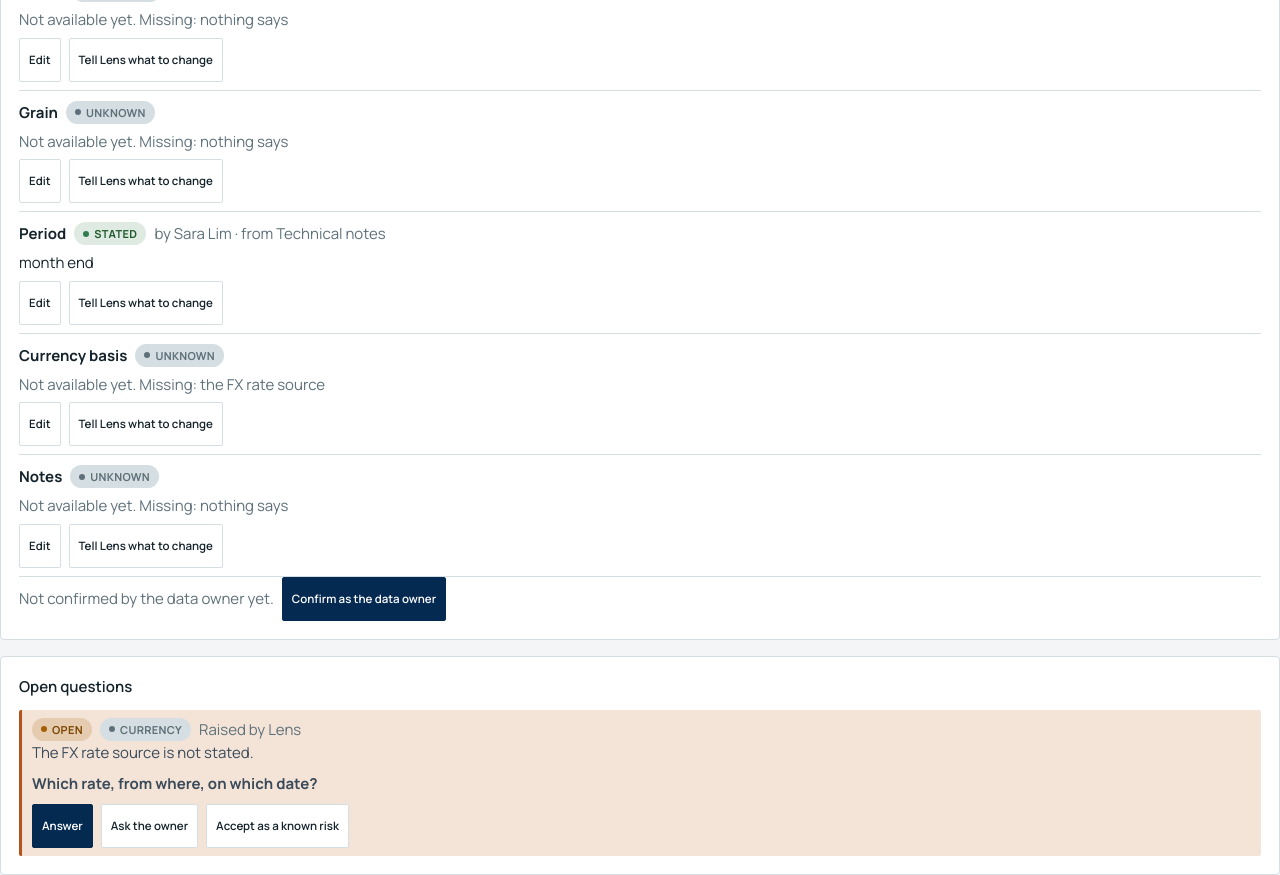
Test: open questions in a measure › Ask the owner adds it to that owner's request and shows the words to copy
(page scrolled)
Click the button "Ask the owner".
click(149, 826)  # box [101,804,198,848]
(page scrolled)
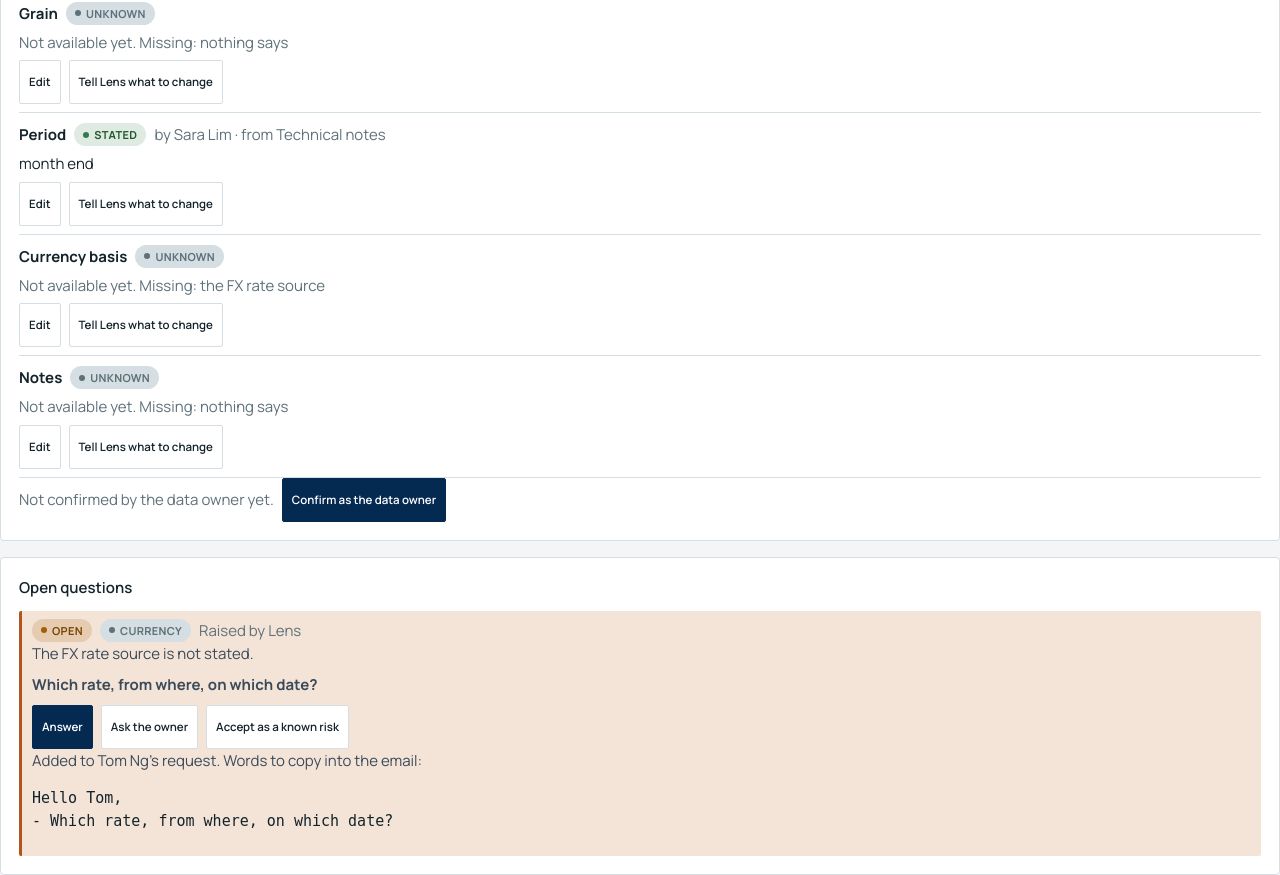
Result: the message shows "Added to Tom Ng's request." at [32,750,220,770]
Result: the text "Hello Tom, - Which rate, from where, on which date?" is shown at [32,789,393,830]
